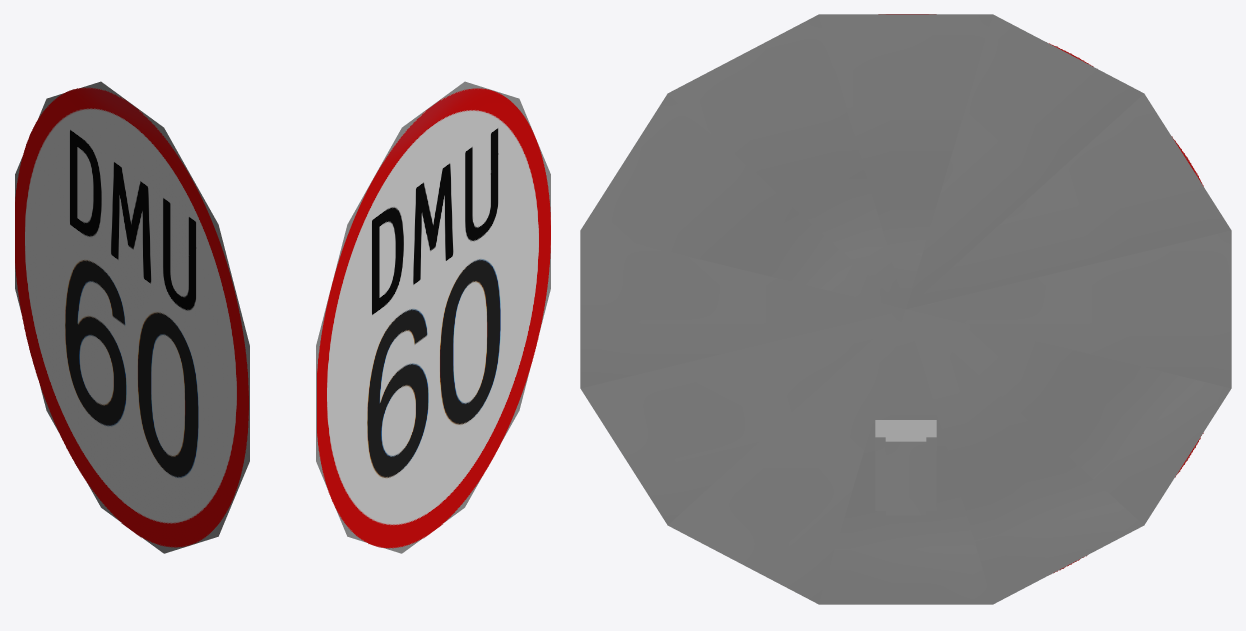
Rendered from speed_60_dmu_large.obj.
3 renders of one model, left to right at view 1: azimuth 30°, elevation 25°; view 2: azimuth 150°, elevation 25°; view 3: azimuth 270°, elevation 25°, orthographic. The views are drawn at different scales.
Parts seen in each view (by area): view 1: cube, circle; view 2: cube, circle; view 3: circle, cube.
Boxes of the visible parts, x1=… form: cube: x1=15, y1=87, x2=248, y2=547; circle: x1=15, y1=81, x2=249, y2=553; cube: x1=317, y1=88, x2=550, y2=548; circle: x1=316, y1=81, x2=550, y2=553; circle: x1=580, y1=14, x2=1231, y2=604; cube: x1=875, y1=14, x2=1203, y2=573.
Bounding box in the file's own units: 0.0797 × 1 × 1.
2 materials, 2 textured.
